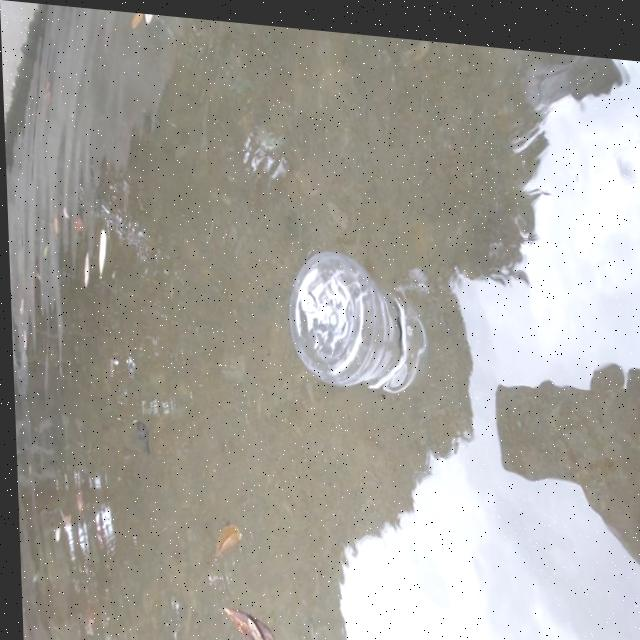leaf: (194, 507, 254, 567), (217, 592, 282, 640)
waterbottle: (277, 245, 447, 415)
